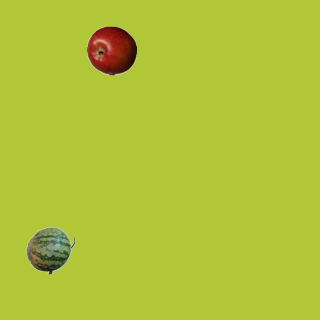Apple Braeburn: (86, 25, 136, 75)
Watermelon: (25, 225, 75, 275)
